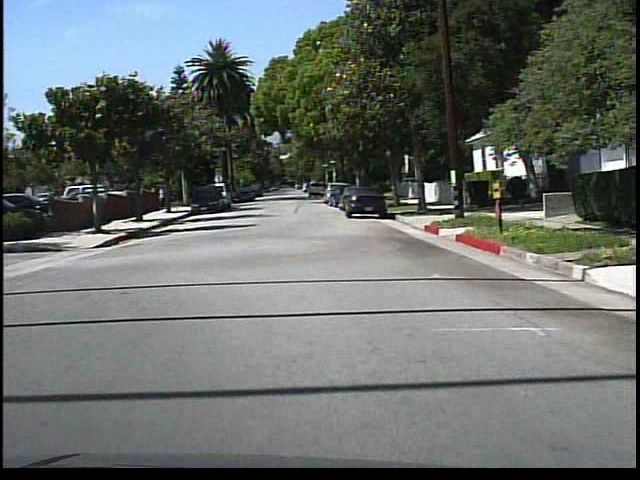person: (155, 182, 169, 210)
